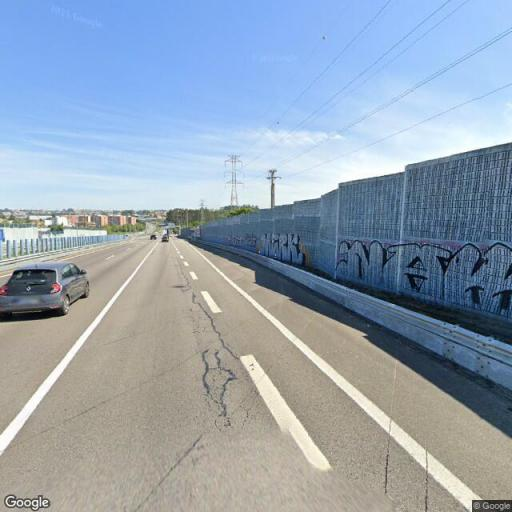mono_7: (266, 166, 282, 207)
ss_3: (223, 153, 243, 209)
